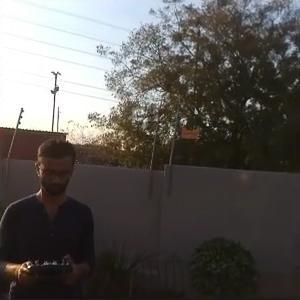follow: (0, 131, 101, 298)
